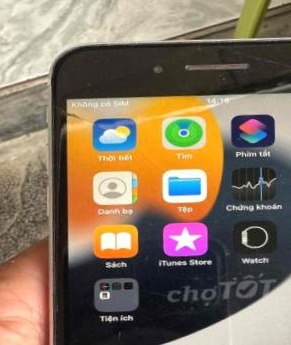physical_damage: (32, 87, 202, 216), (36, 269, 291, 345), (196, 25, 291, 143)
